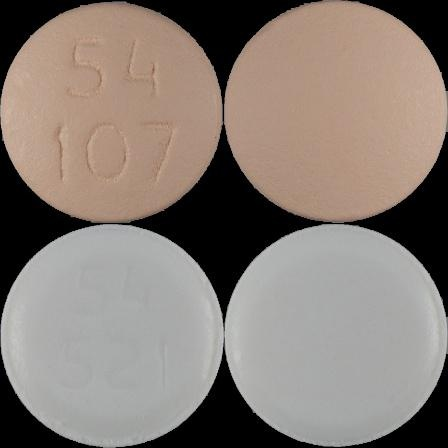0054-0021: (0, 0, 224, 224)
